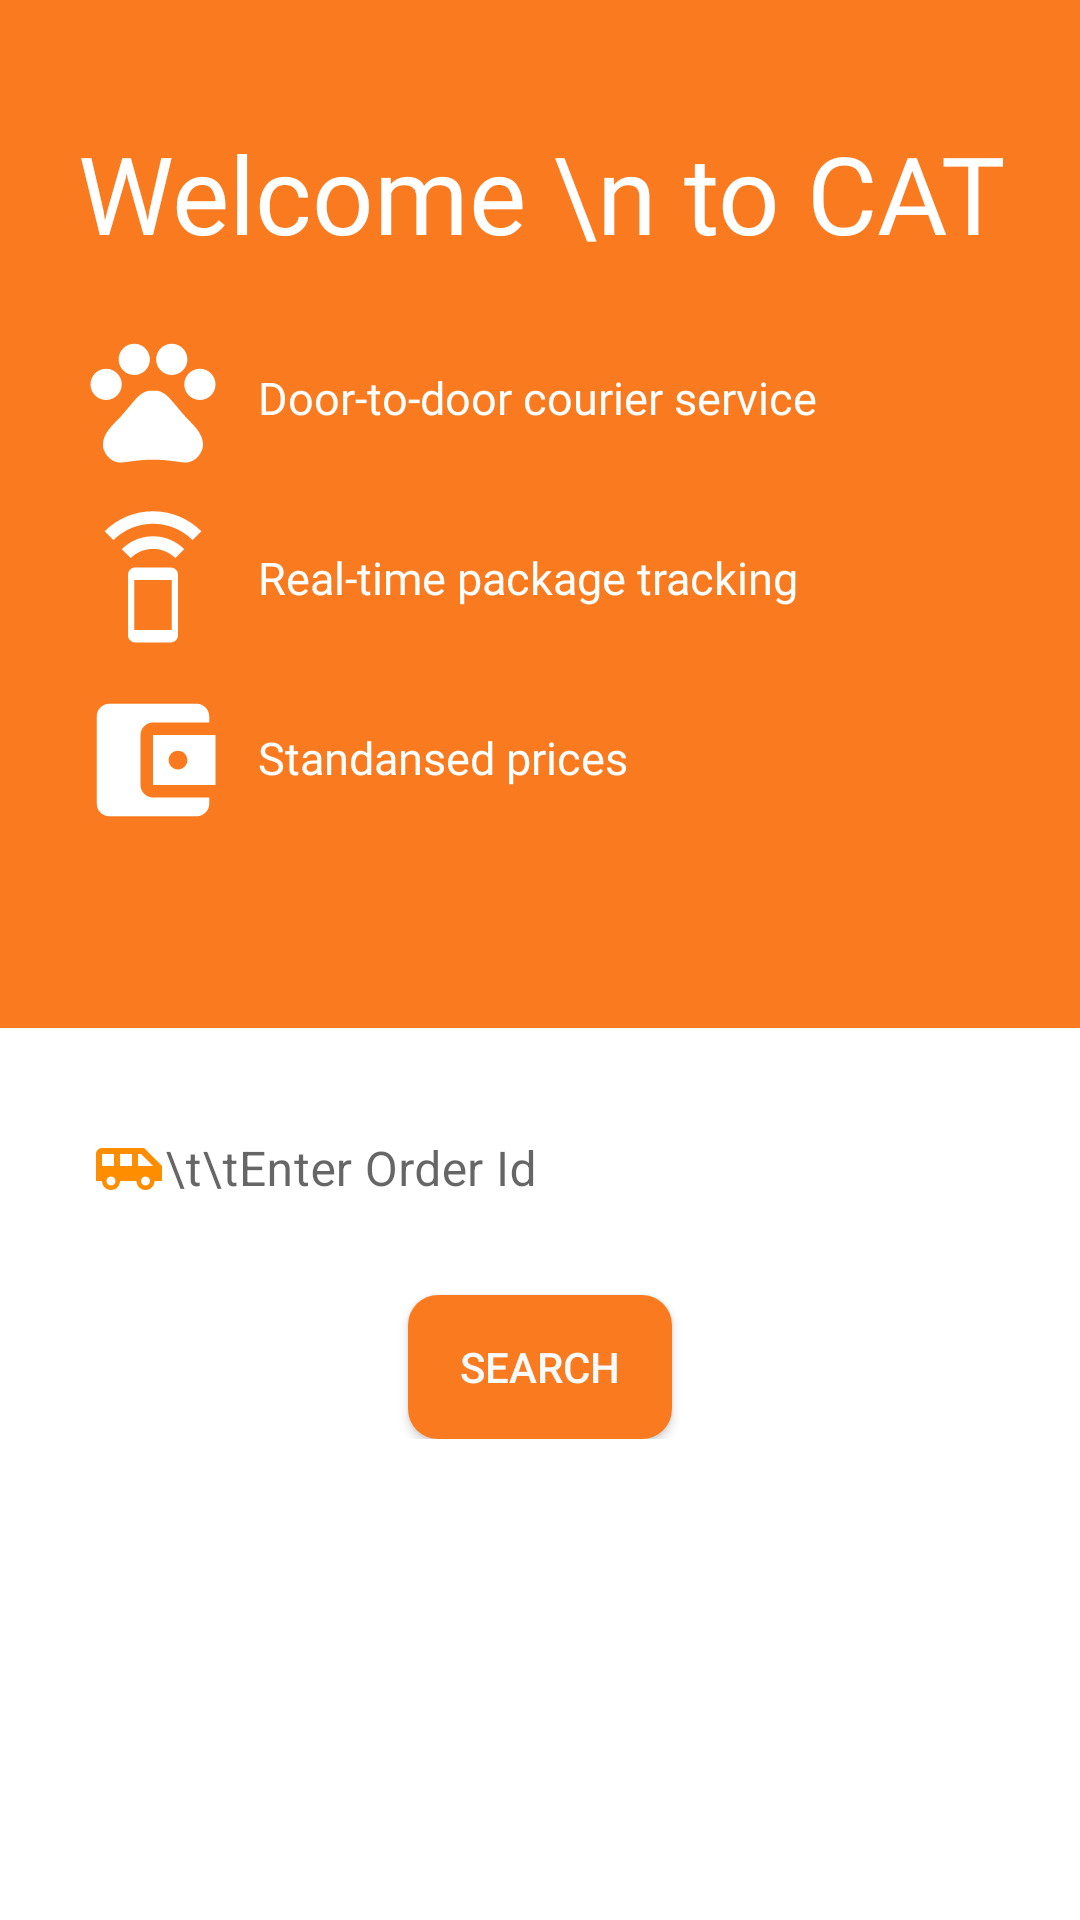

Icon bounding boxes for this 1080w x 1920h phone screenshot, format (x1, y1, x2, y2):
pets: (90, 343, 216, 463)
speakerphone: (104, 511, 202, 643)
